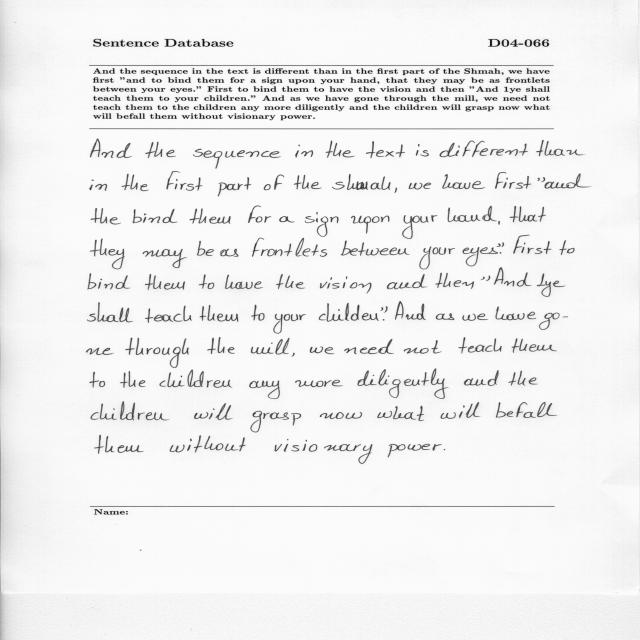word: (357, 369, 449, 399), (275, 439, 373, 464), (125, 337, 189, 368), (193, 149, 281, 169), (91, 402, 169, 421), (252, 238, 327, 257), (440, 141, 528, 157), (160, 370, 233, 388), (170, 436, 246, 453), (319, 303, 385, 322), (510, 206, 546, 237), (341, 240, 410, 256), (90, 239, 125, 270), (251, 411, 302, 432), (463, 244, 503, 270), (496, 402, 557, 418), (332, 174, 391, 190), (95, 435, 144, 454), (320, 276, 371, 294), (88, 303, 133, 323), (402, 215, 438, 239), (143, 249, 187, 268), (419, 247, 455, 270), (145, 305, 191, 323), (305, 212, 338, 237), (90, 139, 132, 158), (448, 206, 497, 222), (536, 140, 584, 156), (541, 174, 591, 189), (344, 339, 394, 354), (458, 337, 502, 354), (167, 171, 203, 191), (377, 406, 424, 421), (351, 216, 390, 234), (388, 444, 442, 457), (441, 402, 481, 419), (512, 338, 557, 353), (88, 274, 130, 290), (537, 273, 565, 297), (366, 141, 405, 158), (200, 305, 239, 322), (251, 338, 290, 355), (194, 403, 233, 420), (273, 314, 306, 334), (190, 208, 231, 224), (494, 270, 532, 287), (442, 174, 485, 189), (132, 209, 178, 223), (145, 274, 185, 290), (218, 177, 251, 196), (435, 273, 474, 289), (387, 274, 428, 289), (495, 172, 531, 189), (249, 380, 280, 399), (496, 307, 537, 321), (464, 370, 498, 386), (225, 275, 263, 289), (404, 340, 442, 354), (91, 208, 121, 225), (145, 142, 176, 158), (326, 141, 355, 158), (539, 313, 568, 330), (121, 174, 149, 191), (207, 337, 235, 354), (276, 274, 305, 289), (509, 371, 538, 386), (120, 371, 145, 388), (294, 175, 322, 189), (248, 206, 271, 223), (522, 241, 552, 254), (295, 380, 343, 387), (406, 304, 426, 320), (264, 175, 284, 190), (320, 412, 362, 419), (197, 241, 214, 256), (90, 372, 105, 388), (295, 145, 313, 158), (560, 240, 575, 255), (251, 305, 265, 321), (199, 275, 214, 289), (87, 348, 114, 355), (90, 180, 107, 191), (463, 314, 489, 321), (310, 347, 335, 354), (395, 302, 404, 320), (416, 144, 429, 156), (409, 183, 431, 190), (514, 237, 523, 254), (220, 249, 239, 257), (436, 313, 454, 320), (279, 216, 295, 222), (481, 276, 491, 281), (384, 306, 388, 313), (291, 353, 295, 357), (395, 188, 397, 193), (502, 242, 504, 247), (537, 178, 540, 181), (498, 221, 500, 225), (444, 449, 445, 450)
